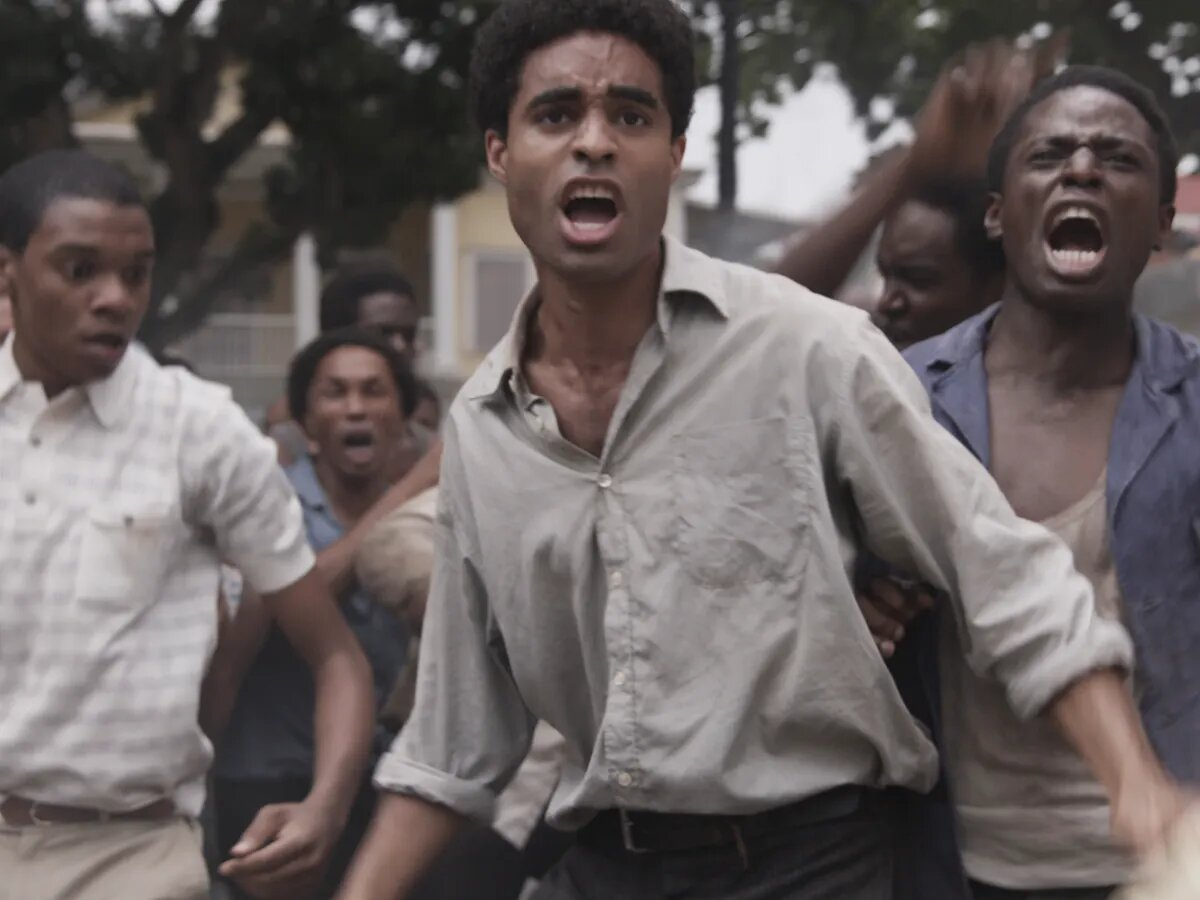without_mask: (515, 58, 671, 269), (1016, 117, 1158, 301), (30, 217, 153, 376)
